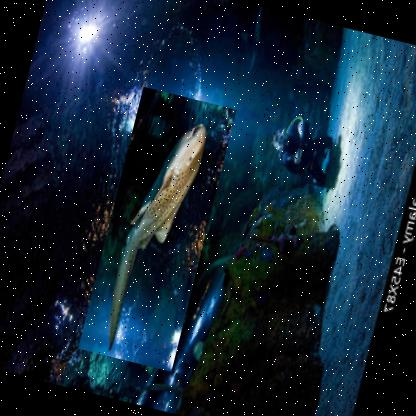zebra_shark: (76, 86, 236, 372)
